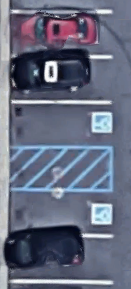Occupied: (10, 235, 113, 285), (10, 10, 114, 57), (10, 56, 113, 103)
Vacant: (9, 189, 115, 238), (10, 102, 113, 148)
